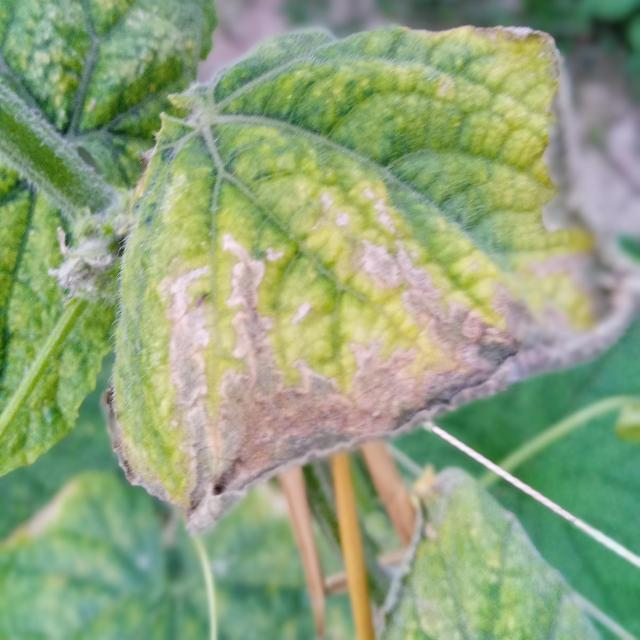cucumber_gummy: (102, 22, 640, 530)
